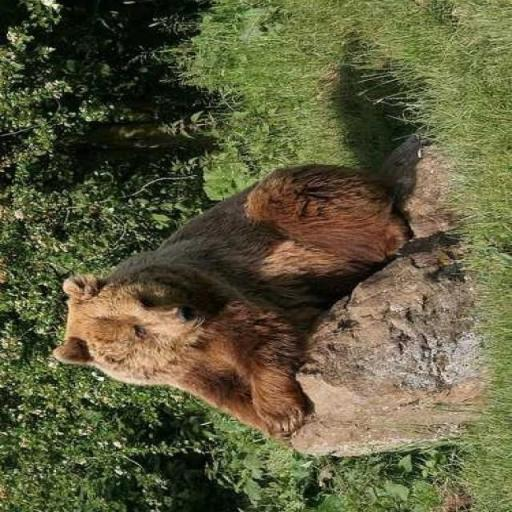Bear: (50, 161, 414, 442)
